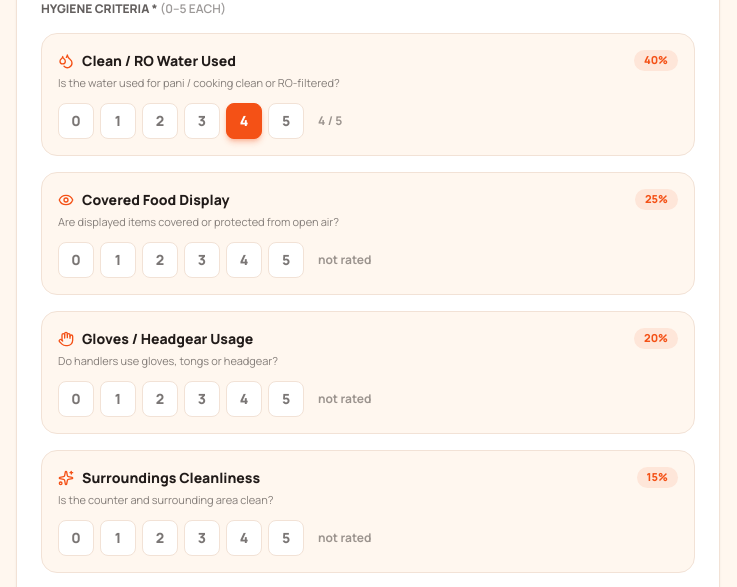
Test: HygieneReview › asks for a vendor when the route carries no :id
The width and height of the screenshot is (737, 587).
Earlier steps of the test are not shown.
(page scrolled)
Click the button "4" below "Covered Food Display" at [244, 260], box [226, 242, 262, 278]
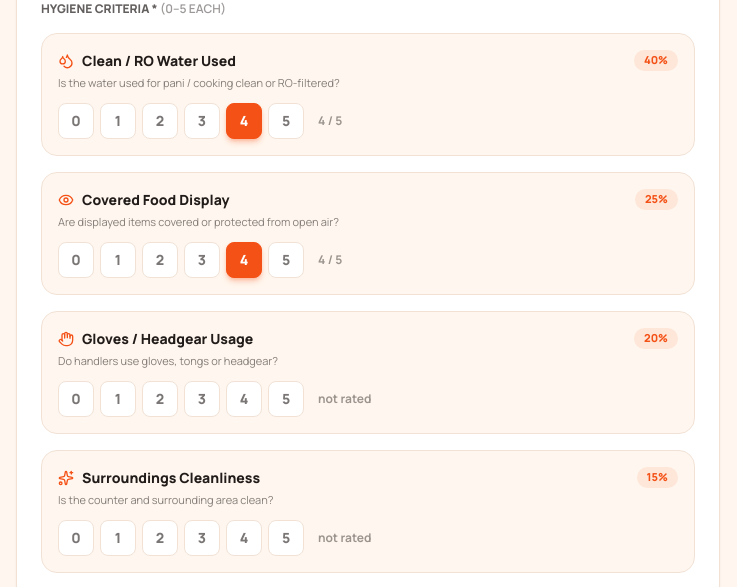
Click the button named "Gloves / Headgear Usage: 4 of 5" at [244, 399], box [226, 381, 262, 417]
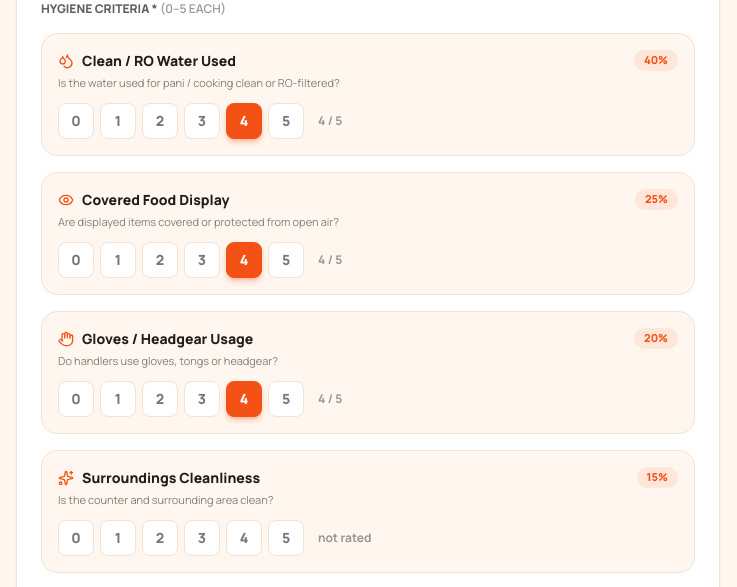
Click the button named "Surroundings Cleanliness: 4 of 5" at [244, 538], box [226, 520, 262, 556]
(page scrolled)
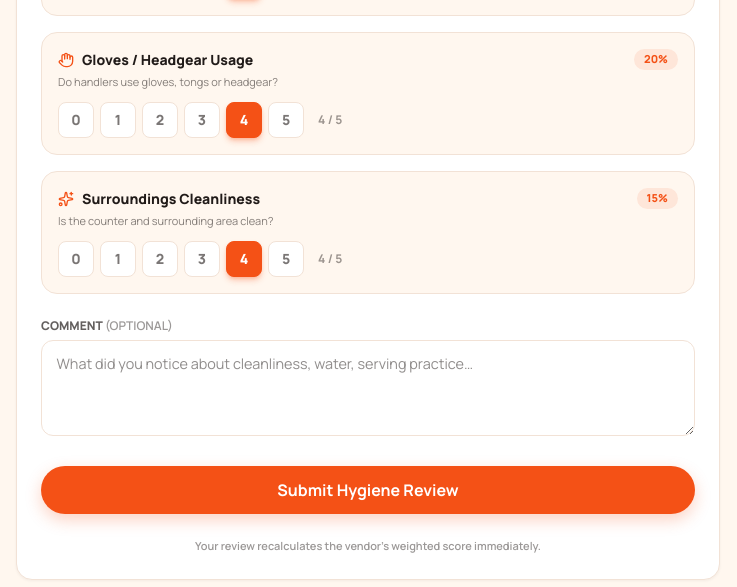
Click the button "Submit Hygiene Review" at [368, 490], box [41, 466, 695, 514]
(page scrolled)
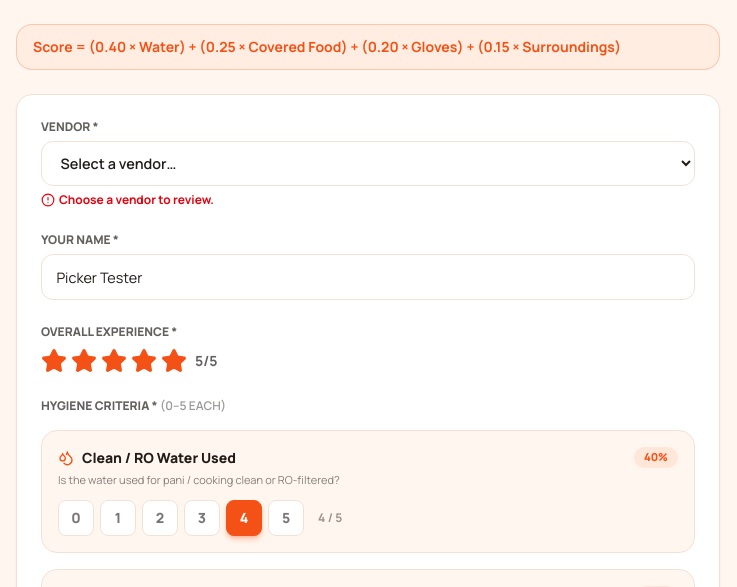
Expected: the text "Choose a vendor to review." is shown, [41, 191, 214, 208]
Select "Mahalaxmi Chaat Center — Sindhi Colony" in the dropdown at [368, 164], box [41, 141, 695, 186]
(page scrolled)
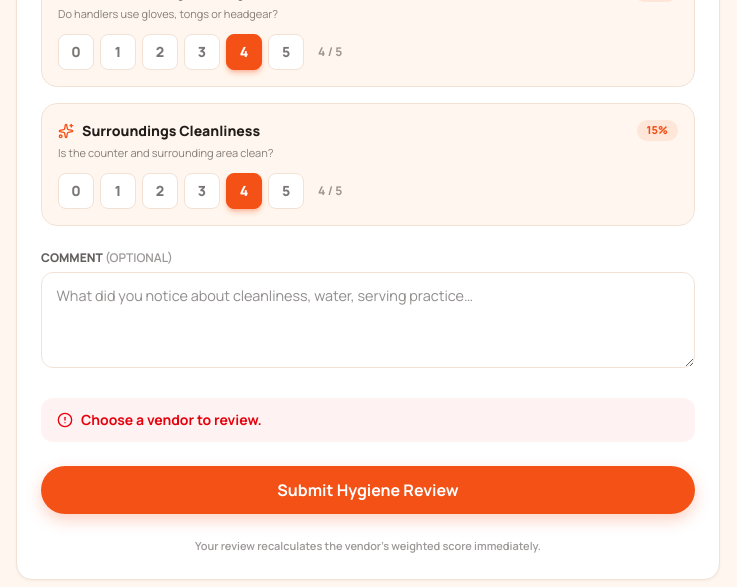
Click the button "Submit Hygiene Review" at [368, 490], box [41, 466, 695, 514]
(page scrolled)
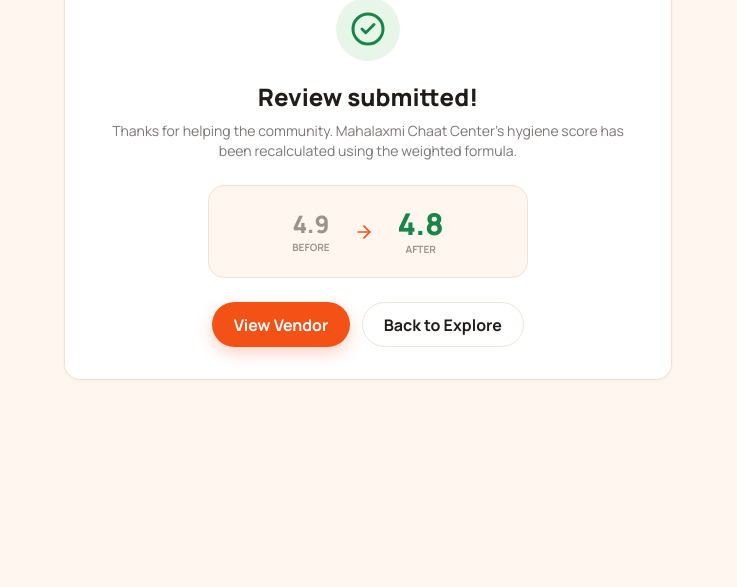
Expected: the heading "Review submitted!" is shown, [258, 80, 478, 113]
